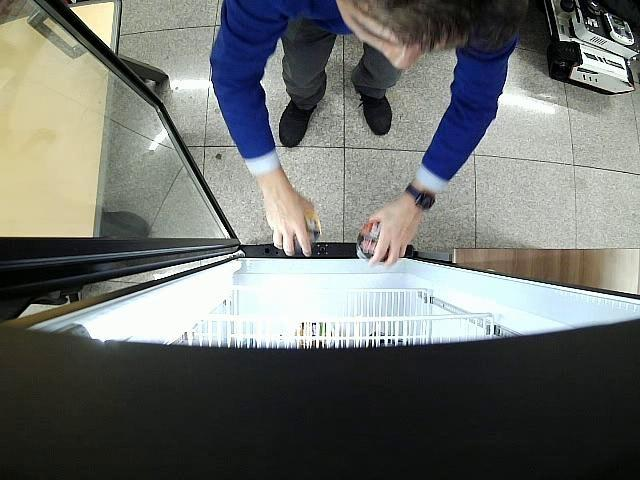08_buldak_S: (357, 220, 390, 262), (294, 213, 322, 250)
